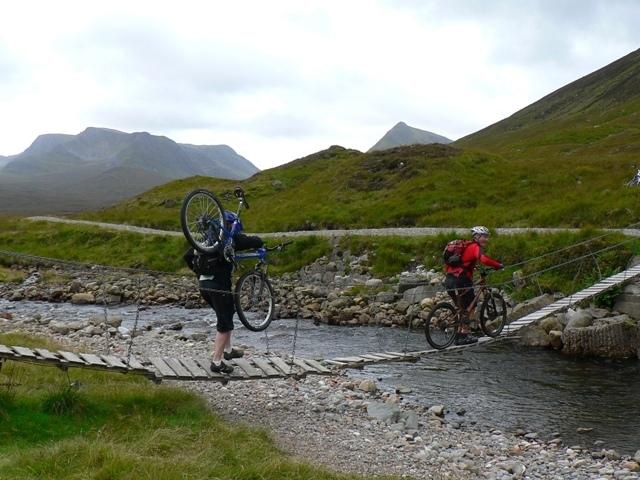non-vehicle: (179, 183, 295, 330), (425, 255, 507, 351)
